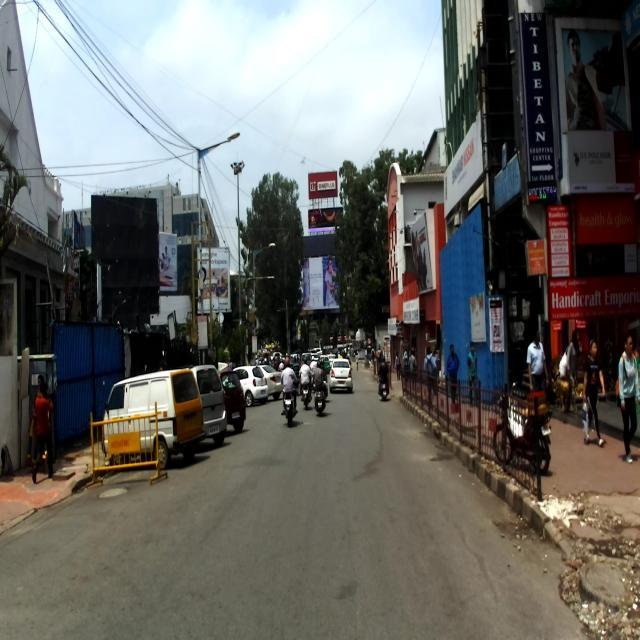Car_Maruti-Suzuki: (101, 367, 206, 470), (189, 364, 228, 446), (215, 367, 246, 435)
Car_Nissan: (260, 363, 287, 401)
Car_Toyota: (328, 357, 353, 392)
motorcycle_TVS: (508, 379, 552, 475)
scooter: (312, 384, 326, 418), (378, 366, 390, 401)
